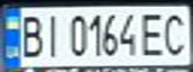0: (66, 10, 87, 57)
1: (84, 10, 106, 57)
4: (118, 9, 142, 57)
6: (103, 10, 121, 57)
B: (15, 11, 48, 58)
C: (160, 9, 193, 57)
E: (139, 9, 169, 57)
I: (39, 10, 66, 60)
